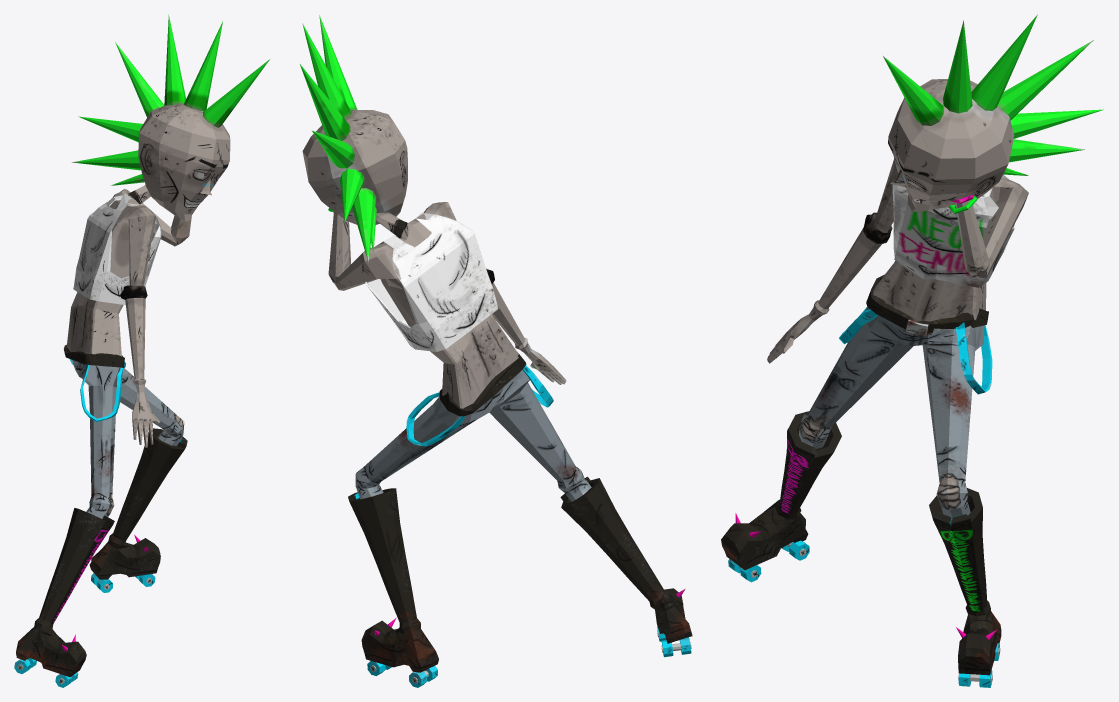
Rendered from punkAnimation_000015.obj.
The picture shows the model from 3 angles, left to right: view 1: azimuth 30°, elevation 25°; view 2: azimuth 150°, elevation 25°; view 3: azimuth 270°, elevation 25°; orthographic projection. The views are drawn at different scales.
Parts seen in each view (by area): view 1: Cube.004_Cube.003; view 2: Cube.004_Cube.003; view 3: Cube.004_Cube.003.
Part boxes in pixels (left/top/right/bottom): Cube.004_Cube.003: left=14, top=14, right=269, bottom=687; Cube.004_Cube.003: left=300, top=15, right=692, bottom=687; Cube.004_Cube.003: left=721, top=14, right=1103, bottom=687.
Bounding box in the file's own units: 3.69 × 6.61 × 3.23.
